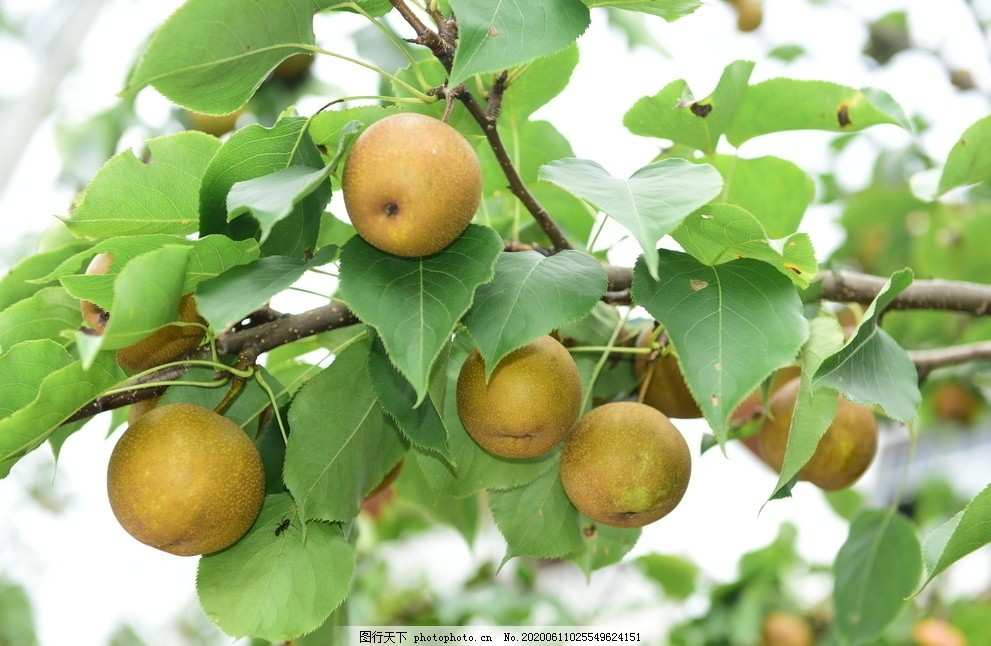pear: (107, 401, 267, 559), (342, 112, 481, 260), (560, 399, 693, 528), (456, 333, 581, 461), (785, 392, 879, 494)
